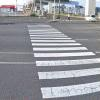crosswalks: (28, 23, 100, 100)
